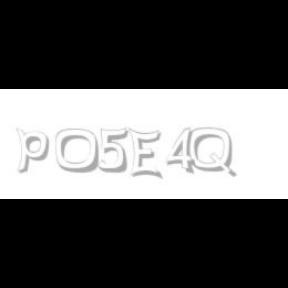4: (166, 128, 196, 174)
5: (97, 128, 128, 174)
E: (128, 128, 162, 180)
O: (55, 128, 100, 174)
Q: (189, 128, 235, 178)
p: (16, 128, 52, 174)
